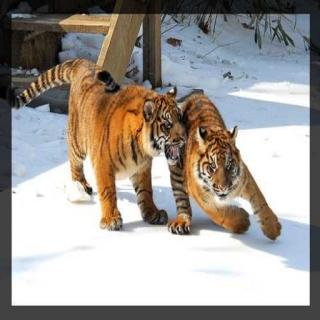Tiger: (21, 45, 182, 247), (167, 78, 278, 251)
